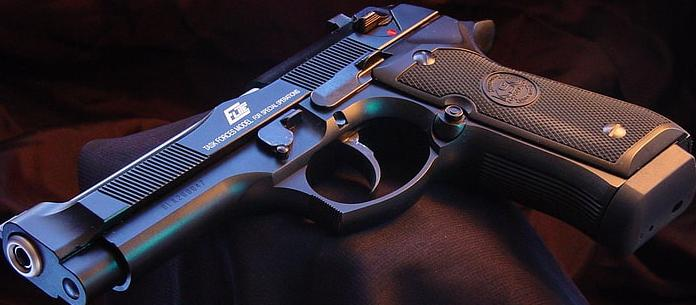gun: (1, 0, 696, 305)
